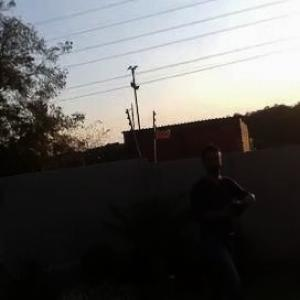follow: (184, 141, 262, 299)
